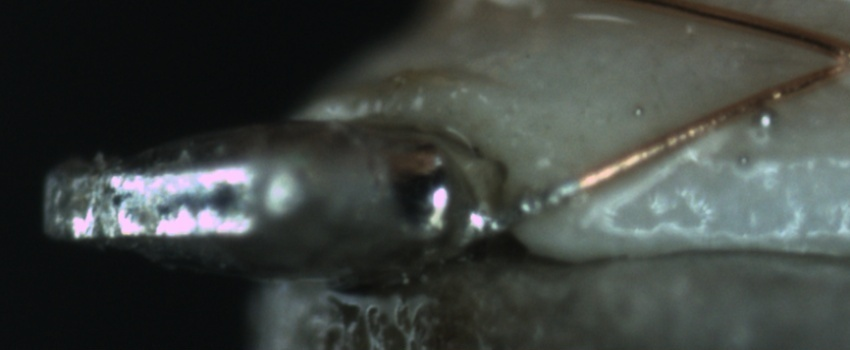CL: (798, 28, 850, 87)
TS: (490, 180, 573, 233)
TTCW: (490, 161, 609, 230)
